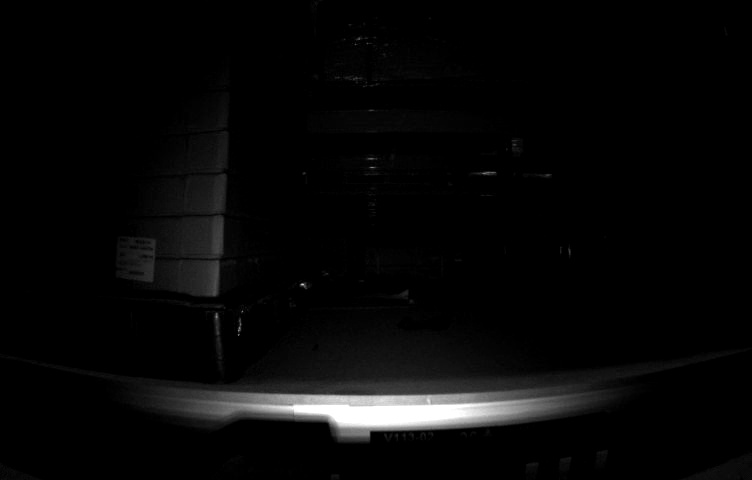True Barcode: (110, 240, 164, 288)
